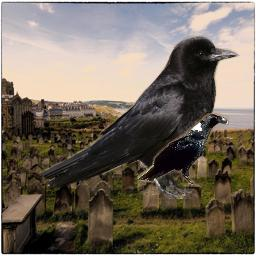Crow: (38, 35, 240, 199), (136, 113, 229, 187)
